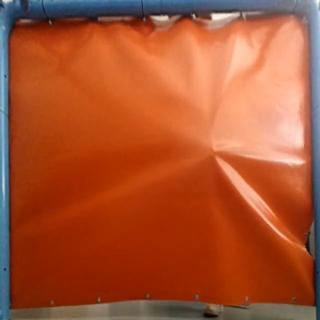Hit-hRxx: (208, 144, 221, 158)
